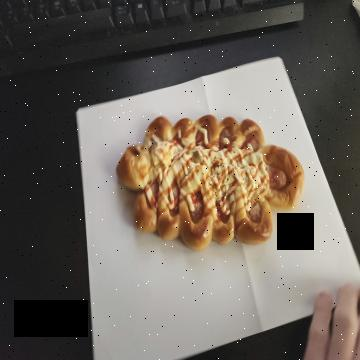pizza_bread: (116, 115, 304, 247)
